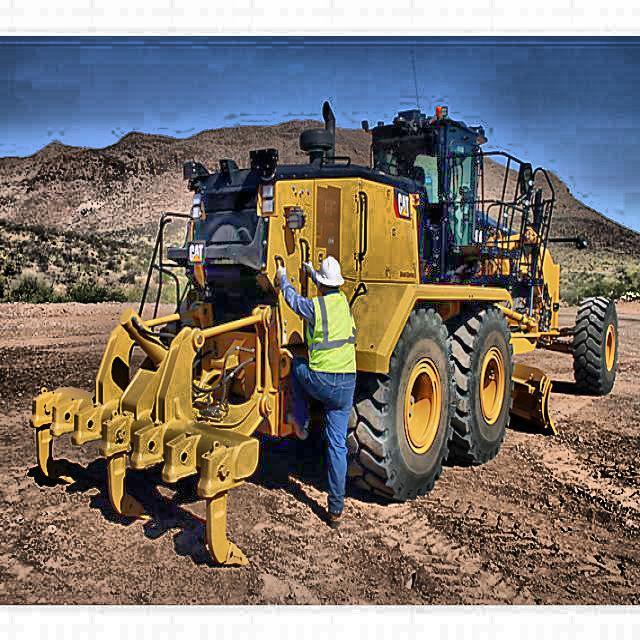bull_dozer/loader/grader: (29, 100, 618, 569)
person: (278, 253, 353, 534)
